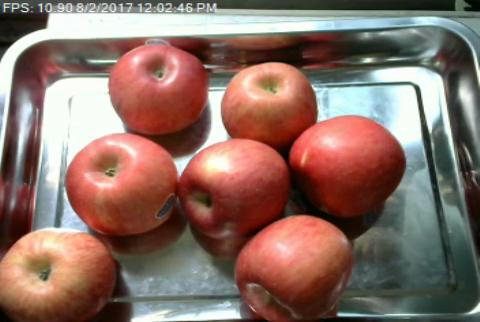apple: (235, 215, 354, 321), (291, 115, 406, 217), (65, 133, 178, 235), (178, 138, 289, 239), (0, 226, 115, 321), (108, 44, 208, 134), (221, 62, 314, 141)
